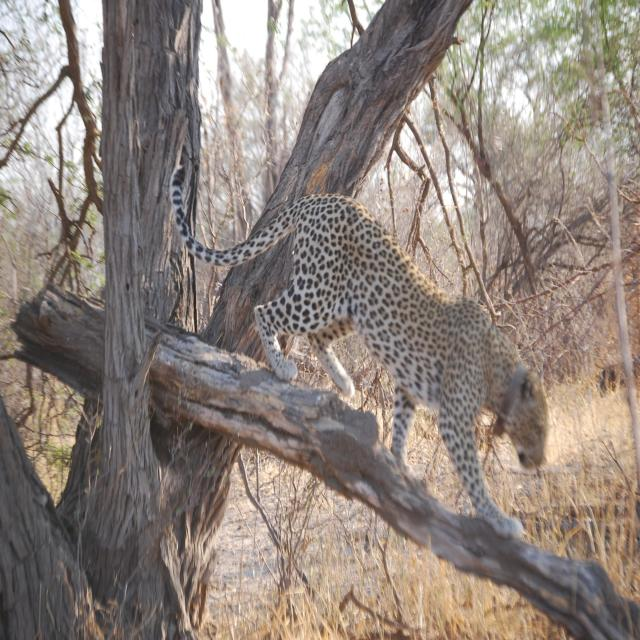Leopard: (161, 155, 560, 542)
